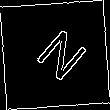N_SW: (24, 23, 86, 87)
